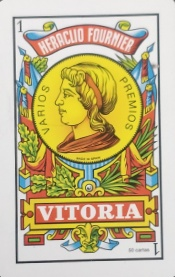1o: (11, 12, 160, 33)
